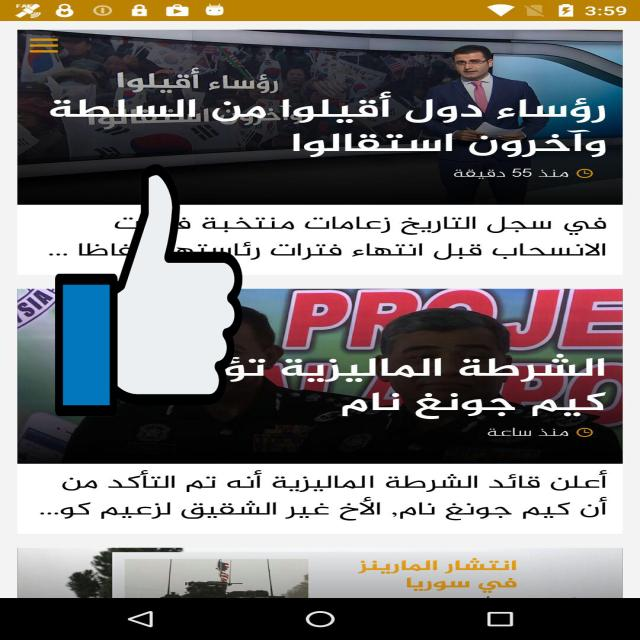privacy zuckering: (55, 158, 242, 422)
